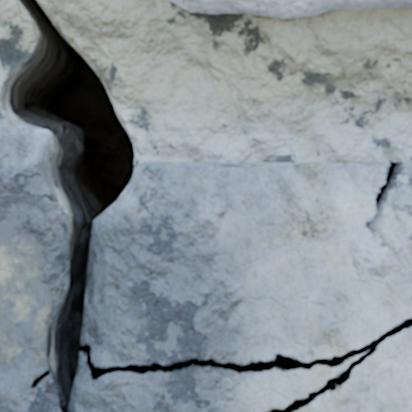brick: (170, 0, 411, 18)
broken_brick: (91, 160, 411, 366), (0, 109, 68, 411), (71, 356, 358, 411), (298, 328, 411, 411)
crack: (1, 0, 411, 411), (365, 162, 405, 250)
